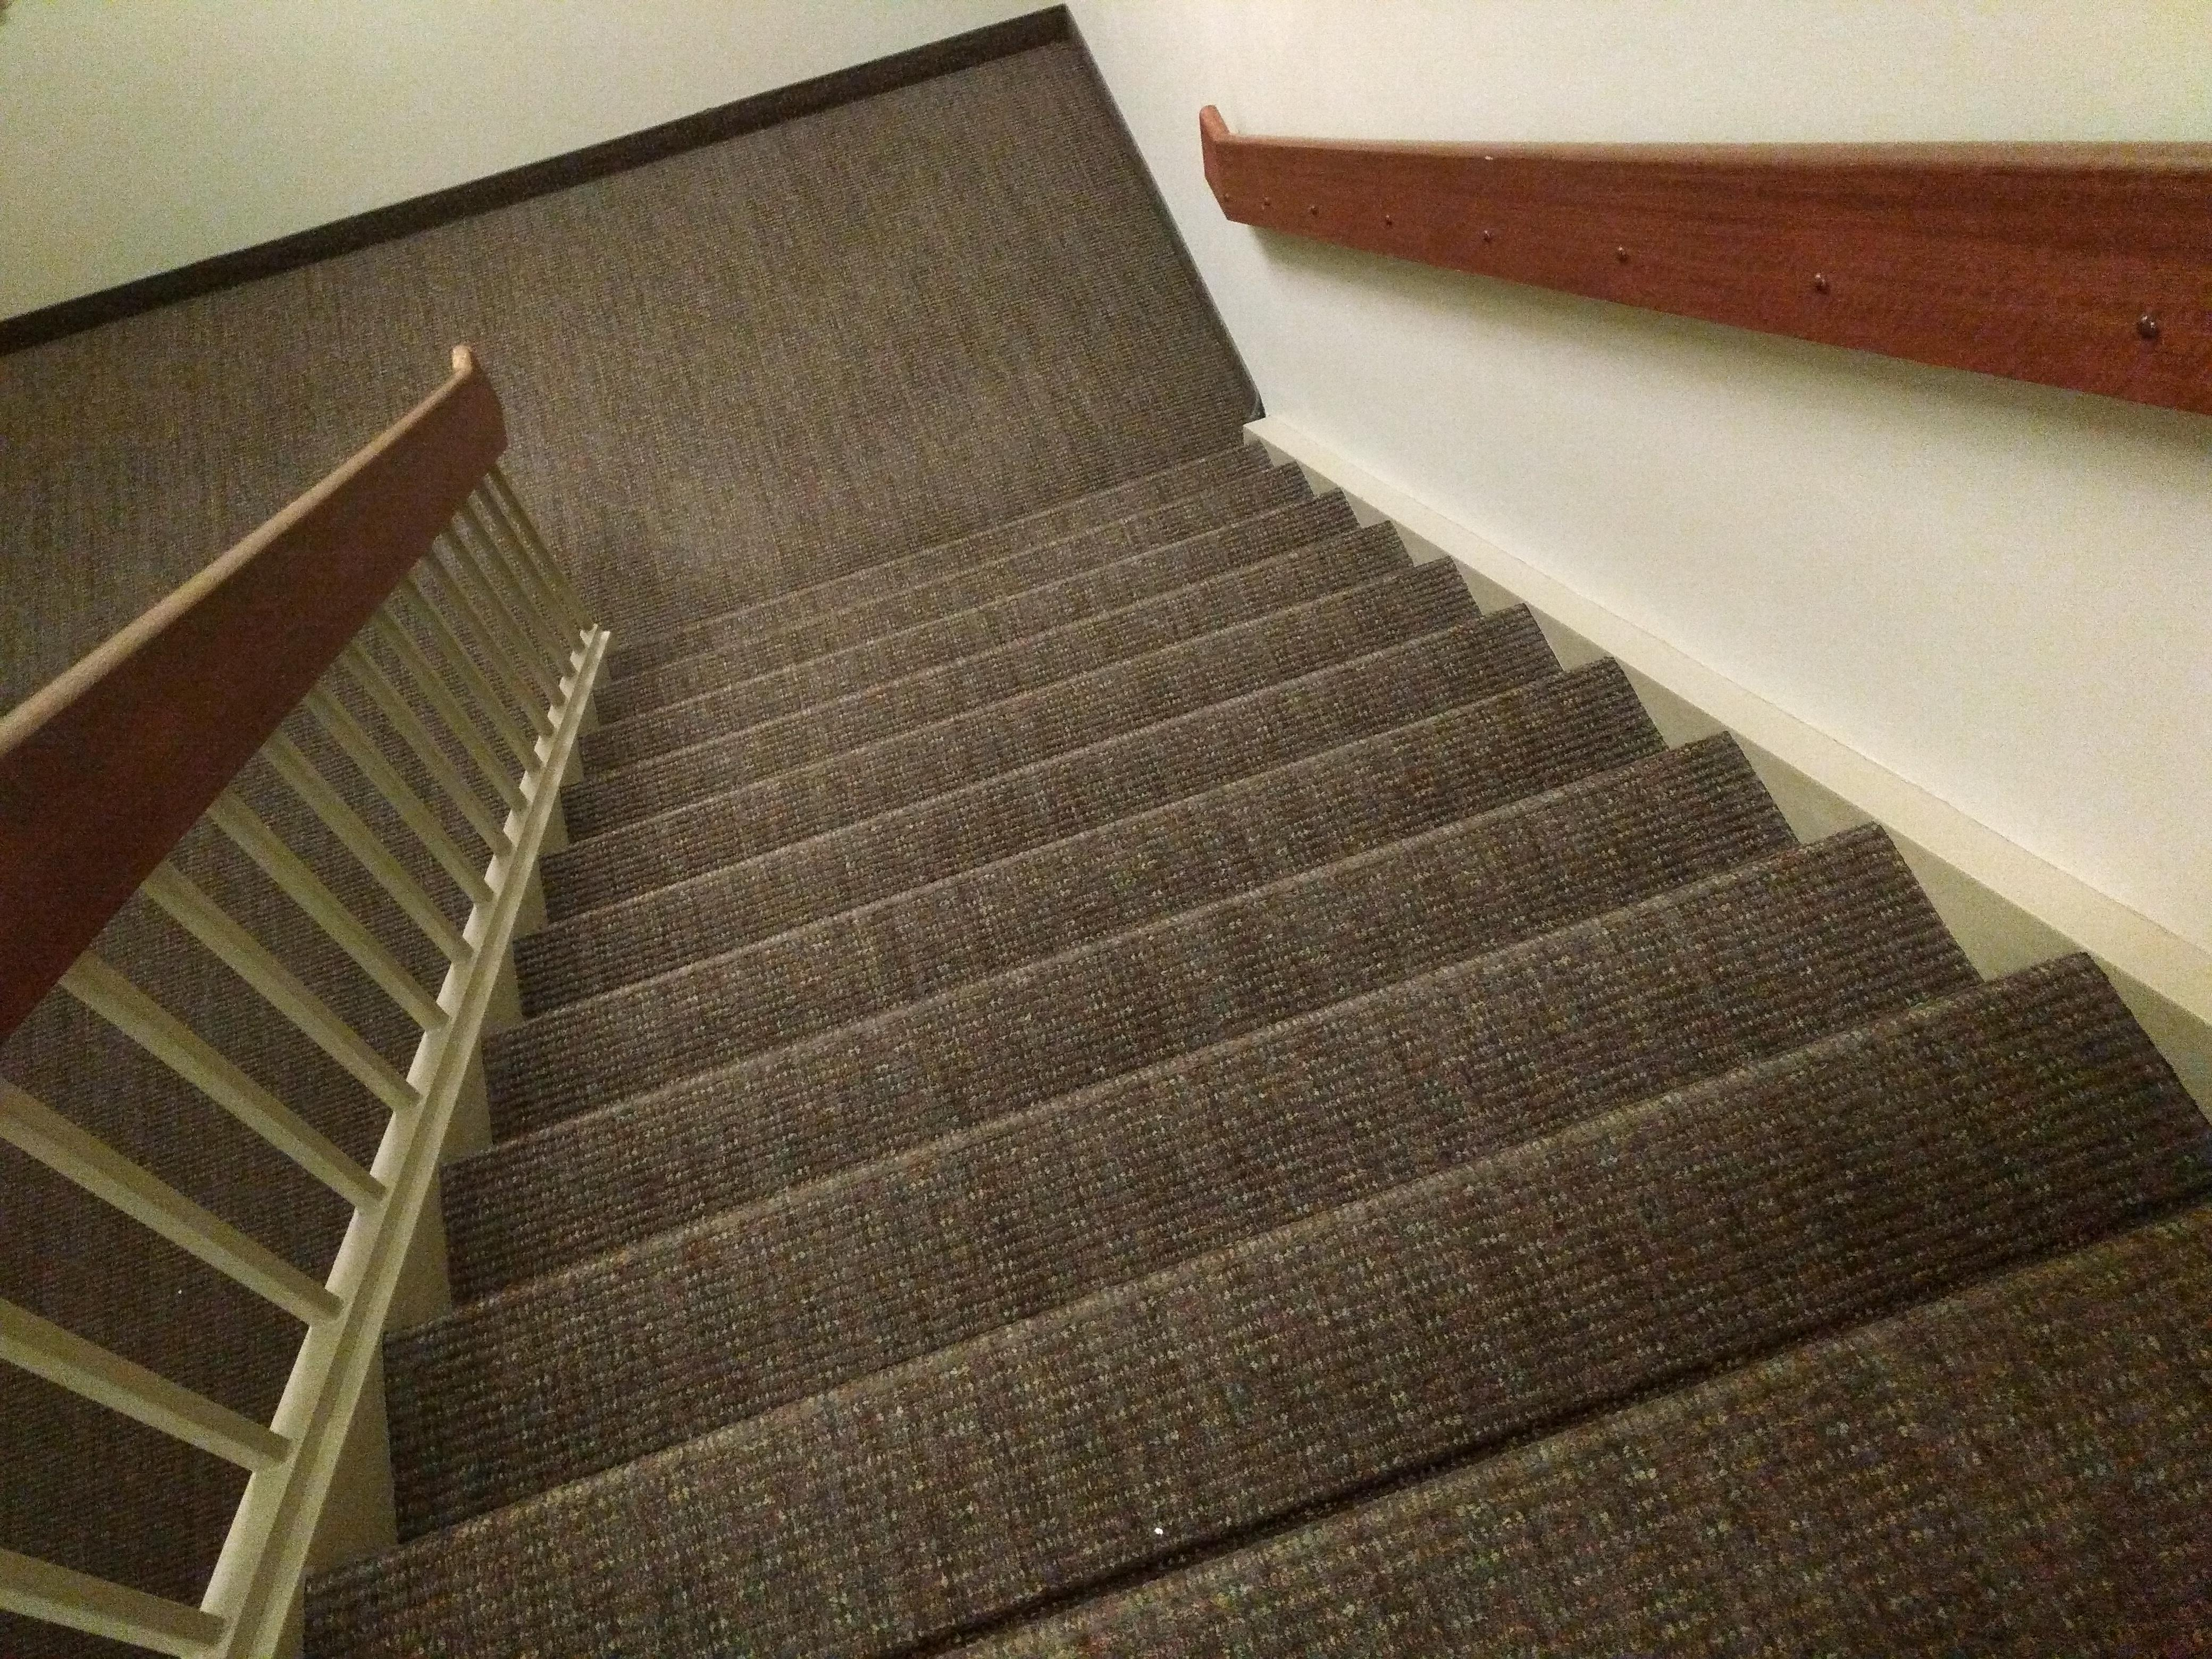stairs_down: (326, 434, 2203, 1659)
